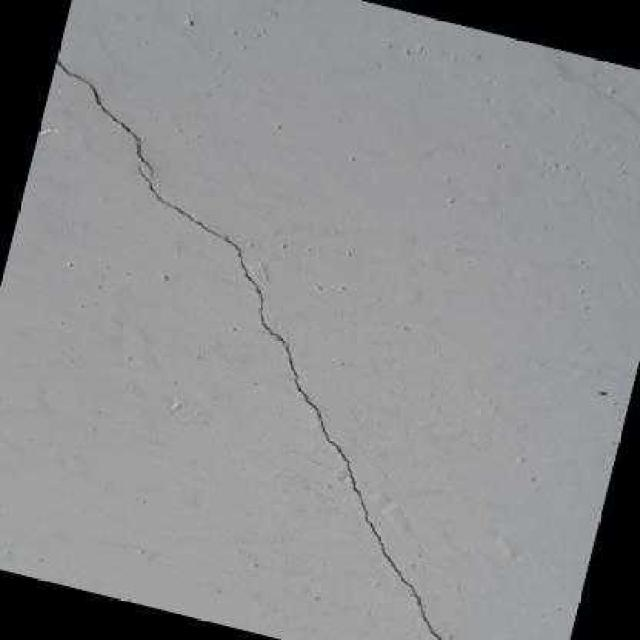D00: (136, 163, 441, 640), (54, 58, 152, 177)
